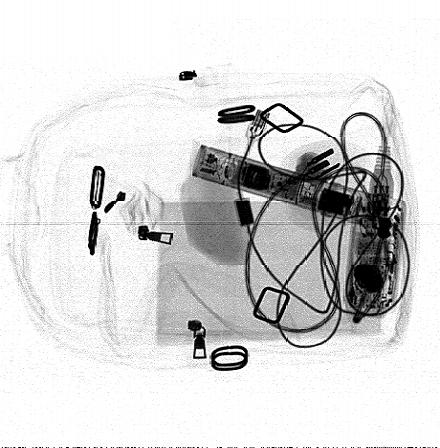Baton: (191, 146, 389, 231)
